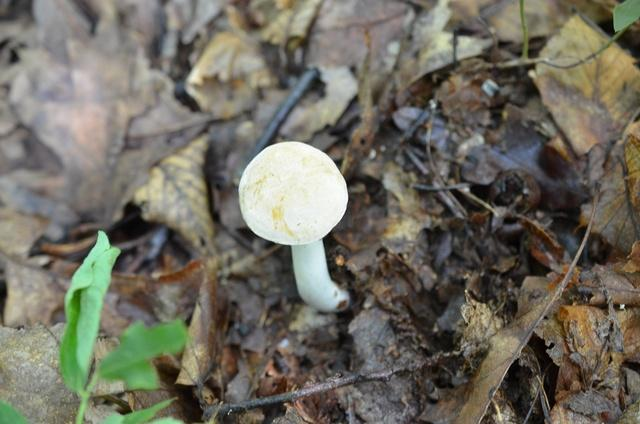edible_mushroom: (237, 139, 351, 313)
